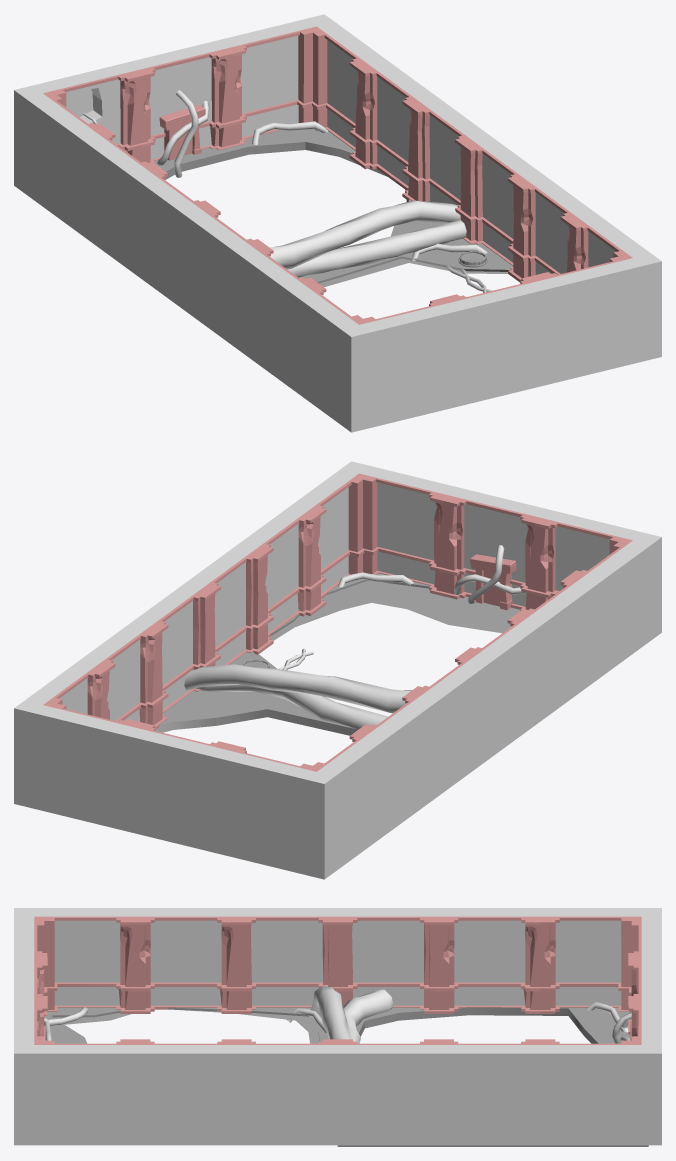
Rendered from salle03_present_mapUnity (1).fbx.
The picture shows the model from 3 angles, top to bottom: view 1: azimuth 30°, elevation 25°; view 2: azimuth 150°, elevation 25°; view 3: azimuth 270°, elevation 25°; orthographic projection. The views are drawn at different scales.
Parts seen in each view (by area): view 1: mur_angle27, mur_angle26, mur_angle28, mur_angle29, mur_porte10, mur_porte9, mur_pillier_detruit102, mur_sans_trou7, mur_pillier_detruit2, mur_pillier_detruit101, mur_sans_trou6, mur_sans_trou4 (+8 smaller); view 2: mur_angle29, mur_angle26, mur_angle28, mur_angle27, mur_porte9, mur_porte10, mur_sans_trou6, mur_pillier_detruit101, mur_sans_trou7, mur_pillier_detruit102, mur_pillier_detruit100, mur_sans_trou4 (+6 smaller); view 3: mur_angle28, mur_angle26, mur_angle27, mur_angle29, mur_pillier_detruit100, mur_sans_trou4, mur_sans_trou5, mur_pillier_detruit2, mur_pillier_detruit102, mur_pillier_detruit101, mur_sans_trou7, mur_sans_trou6 (+6 smaller).
Boxes of the visible parts, x1,y1,x2,y2 form: mur_angle27: (288,283,460,432); mur_angle26: (535,215,661,383); mur_angle28: (215,14,387,162); mur_angle29: (14,63,140,231); mur_porte10: (444,275,552,405); mur_porte9: (124,41,232,163); mur_pillier_detruit102: (235,245,317,385); mur_sans_trou7: (182,206,265,347); mur_pillier_detruit2: (357,60,439,200); mur_pillier_detruit101: (77,129,159,270); mur_sans_trou6: (130,167,212,308); mur_sans_trou4: (463,138,545,278); mur_angle29: (215,730,387,879); mur_angle26: (288,461,460,609); mur_angle28: (14,662,140,830); mur_angle27: (535,510,661,678); mur_porte9: (123,722,231,852); mur_porte10: (443,488,551,610); mur_sans_trou6: (410,653,493,794); mur_pillier_detruit101: (358,692,440,832); mur_sans_trou7: (463,614,545,755); mur_pillier_detruit102: (516,576,598,717); mur_pillier_detruit100: (236,507,318,648); mur_sans_trou4: (183,546,265,666); mur_angle28: (540,1002,661,1145); mur_angle26: (14,1002,135,1145); mur_angle27: (14,908,135,1015); mur_angle29: (540,908,661,1025); mur_pillier_detruit100: (135,1039,236,1145); mur_sans_trou4: (236,1039,337,1145); mur_sans_trou5: (338,1039,439,1145); mur_pillier_detruit2: (439,1039,540,1145); mur_pillier_detruit102: (135,908,236,1013); mur_pillier_detruit101: (439,908,540,1013); mur_sans_trou7: (236,908,337,1013); mur_sans_trou6: (338,908,439,1013).
Size of the model in its own units: 17 by 5.71 by 32.
